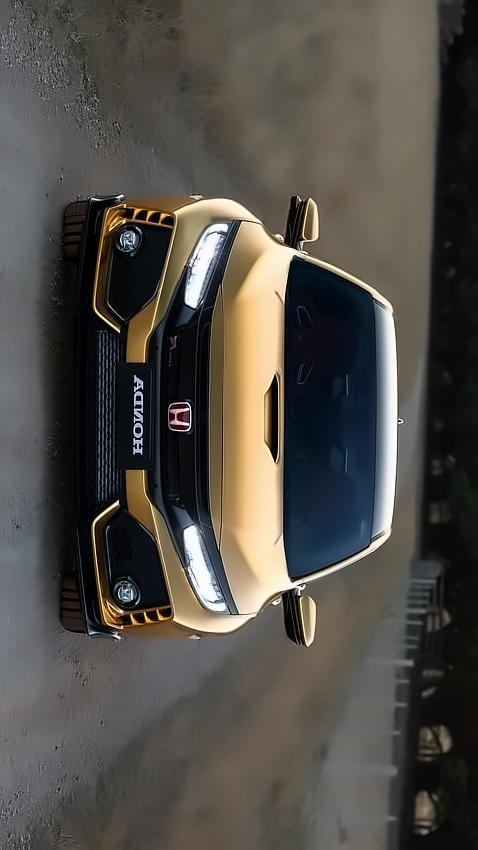Car hood: (210, 216, 294, 627)
Front bumper: (72, 190, 199, 641)
Headlight - -L-: (173, 516, 231, 616)
Headlight - -R-: (166, 216, 239, 331)
Side mirror - -L-: (273, 582, 317, 648)
Side mirror - -R-: (276, 192, 318, 255)
